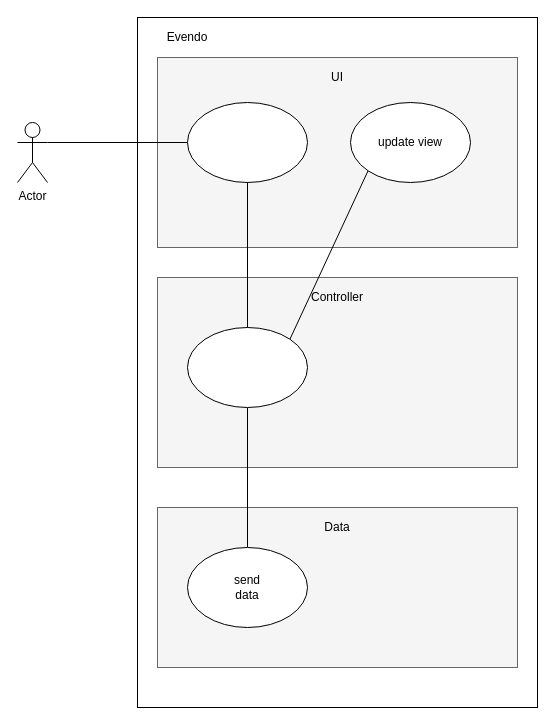
This 555x725 diagram has some shape labels left out. Each missing label, with the centre of its shape:
"request data/ convert data" goes at pixel 247 367.
"select another day" goes at pixel 247 142.
